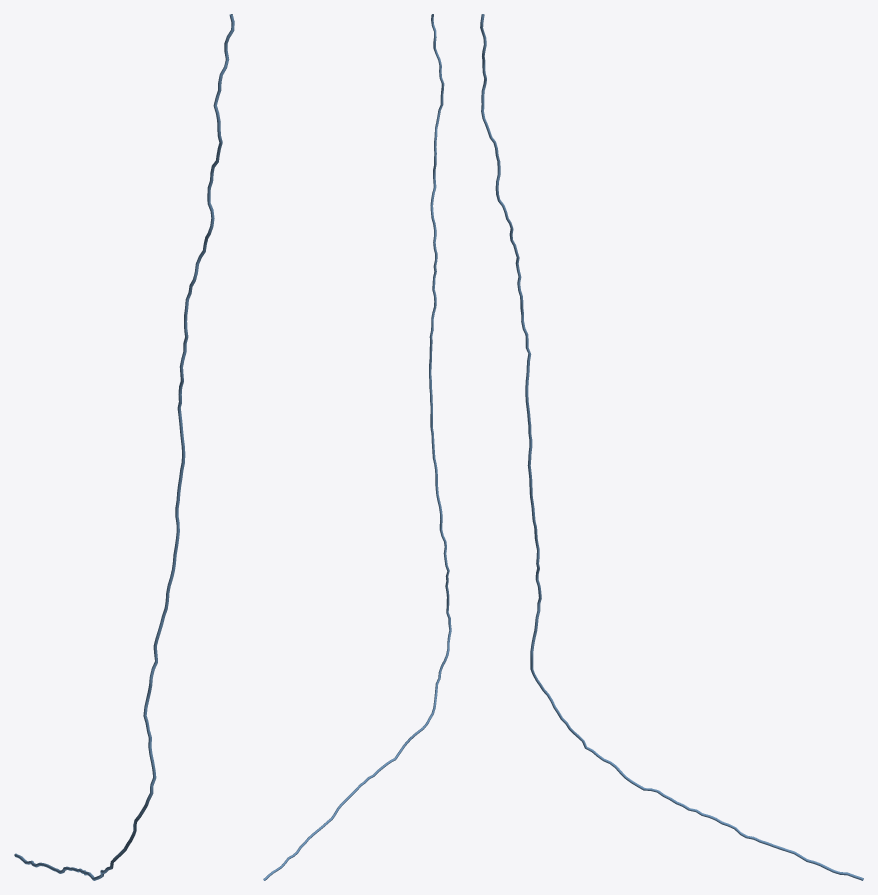
Rendered from sweep2.fbx.
The picture shows the model from 3 angles, left to right: view 1: azimuth 30°, elevation 25°; view 2: azimuth 150°, elevation 25°; view 3: azimuth 270°, elevation 25°; orthographic projection. The views are drawn at different scales.
Visible parts, largest first — view 1: sweep2; view 2: sweep2; view 3: sweep2.
Boxes of the visible parts, x1,y1,x2,y2 form: sweep2: (14,14,234,880); sweep2: (263,14,451,880); sweep2: (480,14,863,880).
Size of the model in its own units: 0.4573 by 6.32 by 2.55.
